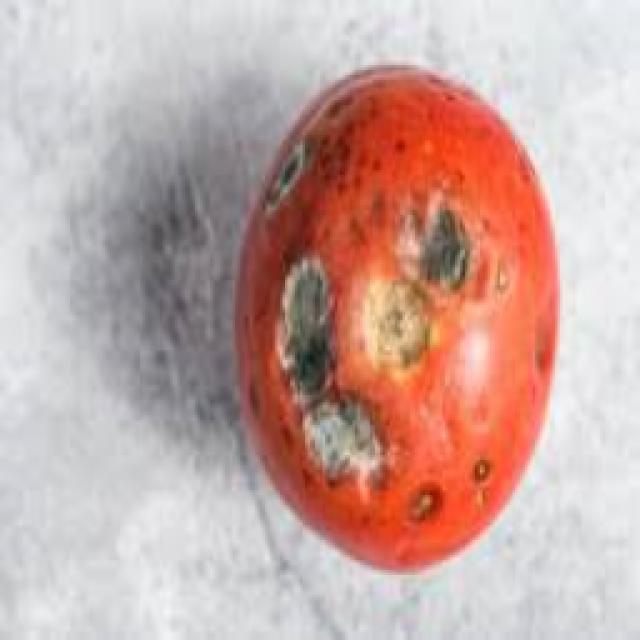overripe tomato: (228, 54, 567, 590)
